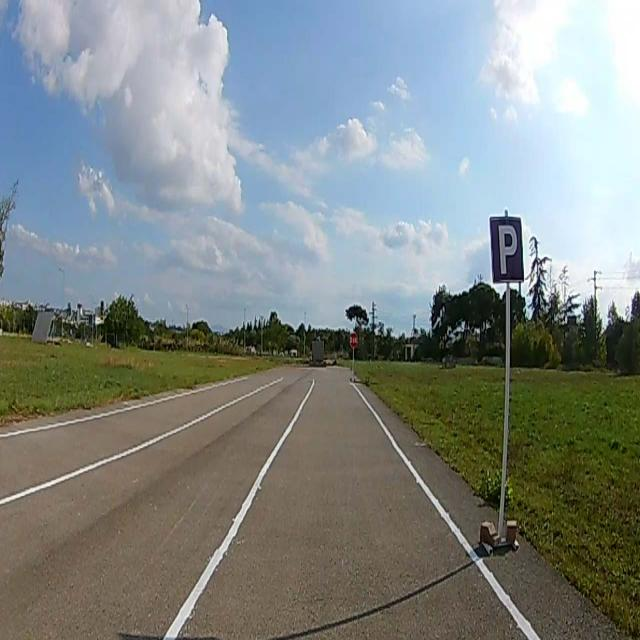park: (491, 218, 523, 282)
